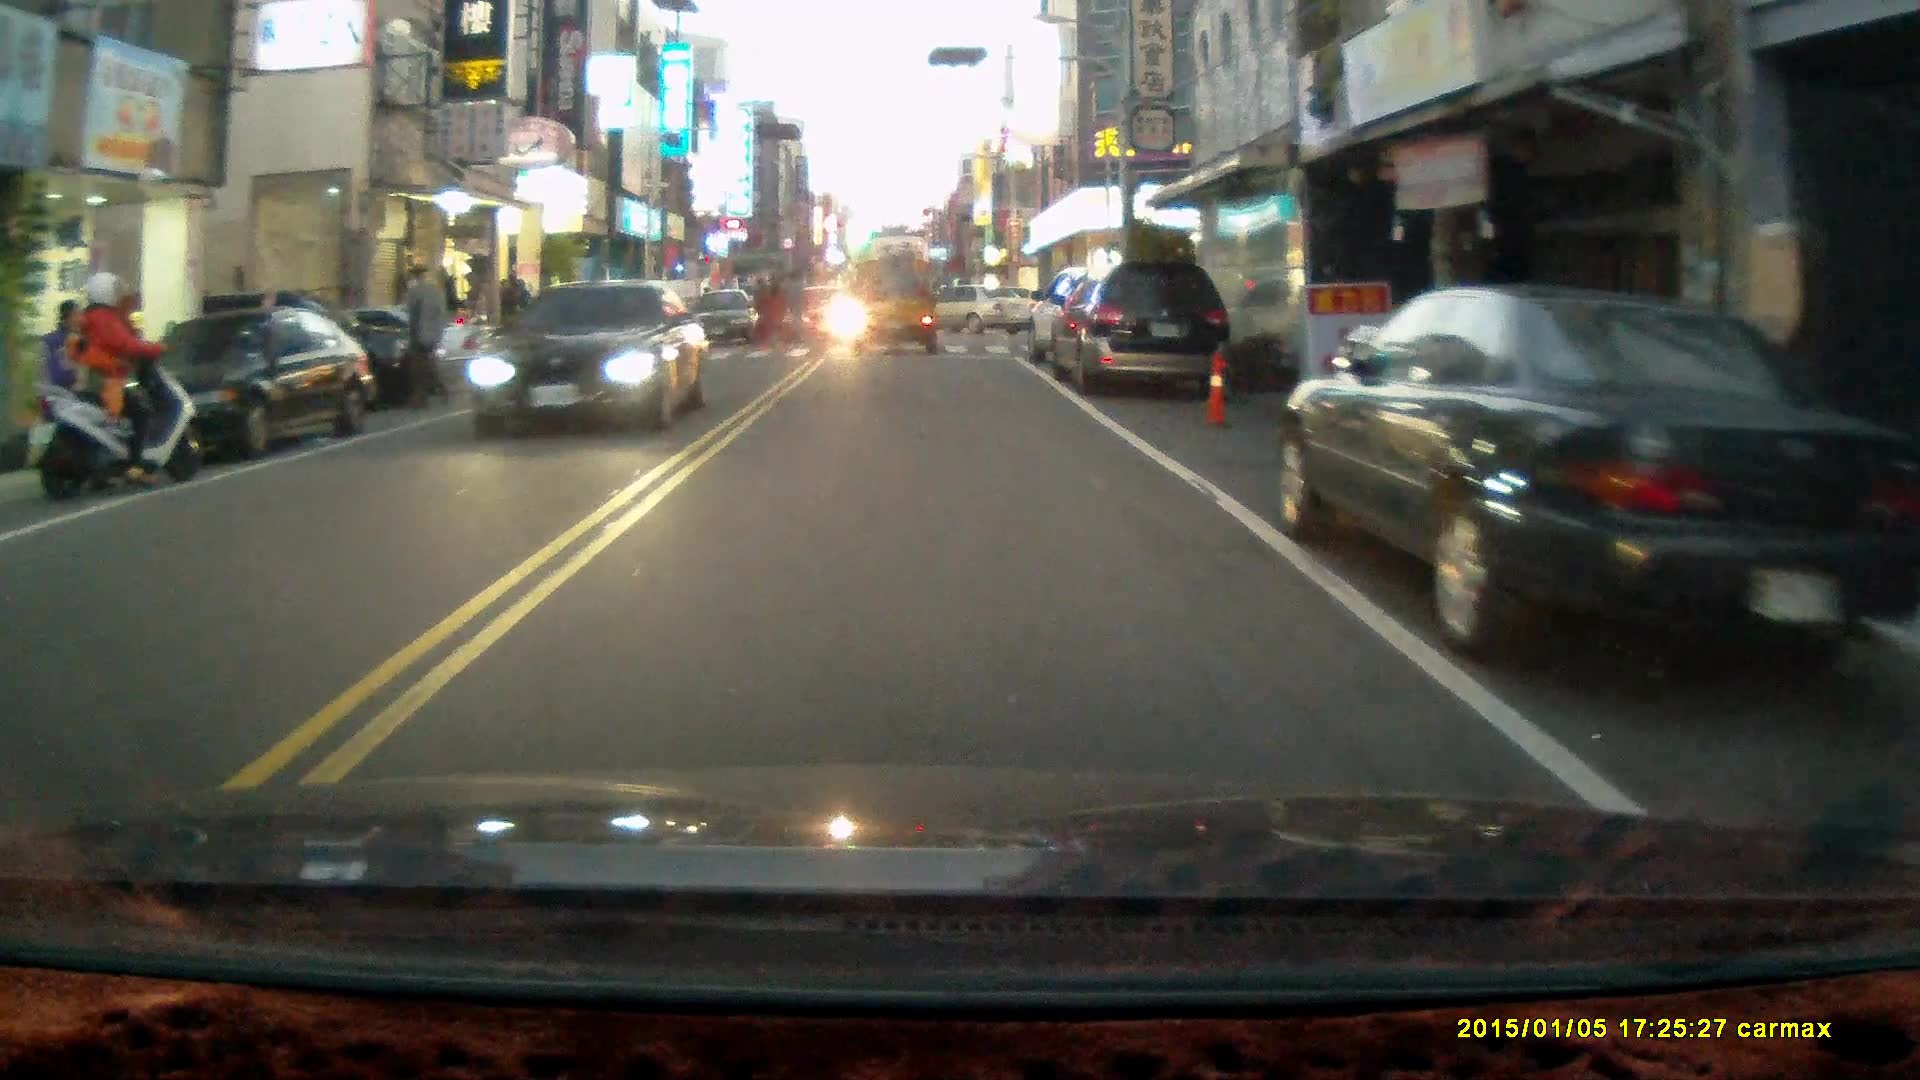pedestrian: (399, 263, 448, 412)
rider: (34, 269, 203, 502)
vehicle: (1279, 280, 1892, 669), (126, 309, 373, 469), (467, 279, 713, 437), (1043, 258, 1233, 396), (249, 302, 502, 396), (853, 259, 941, 356), (899, 283, 1037, 341), (693, 286, 760, 343)
